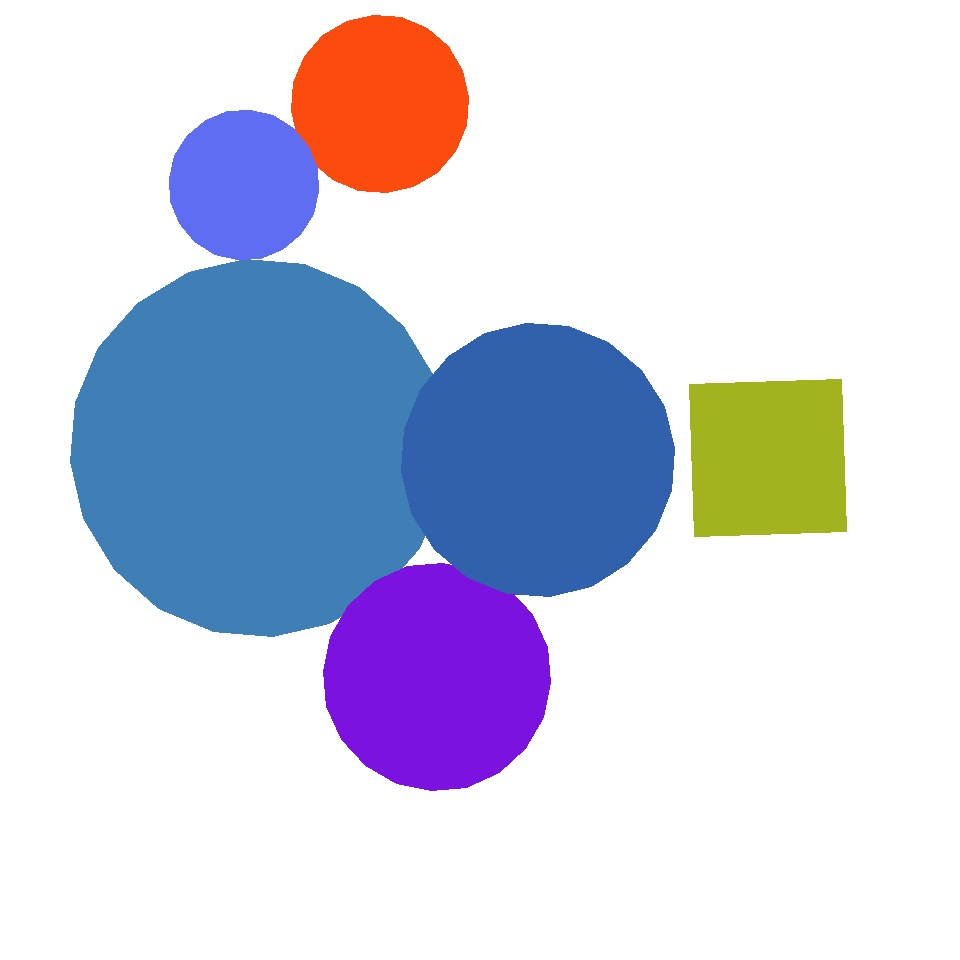circle: (560, 624, 842, 884)
square: (522, 566, 726, 770), (690, 380, 846, 536)
triangle: (70, 260, 448, 636), (402, 324, 674, 596), (324, 564, 550, 790), (492, 280, 694, 480), (291, 15, 468, 192), (169, 110, 318, 260)
